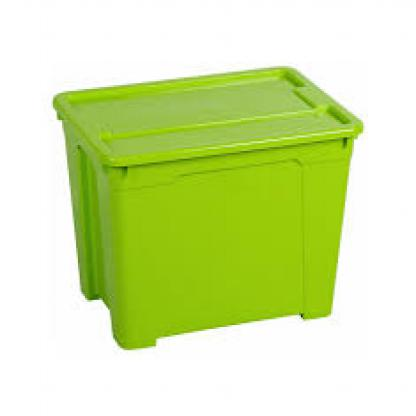plastic_box: (30, 25, 372, 362)
